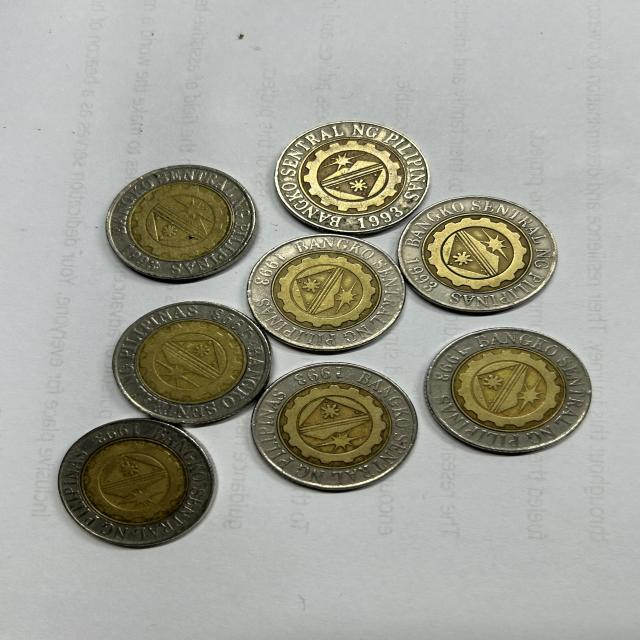10_Old_Back: (422, 332, 614, 460), (49, 421, 218, 550), (251, 369, 409, 494), (111, 305, 274, 422), (399, 194, 555, 314), (98, 164, 252, 280), (259, 230, 404, 352), (276, 124, 427, 217)
